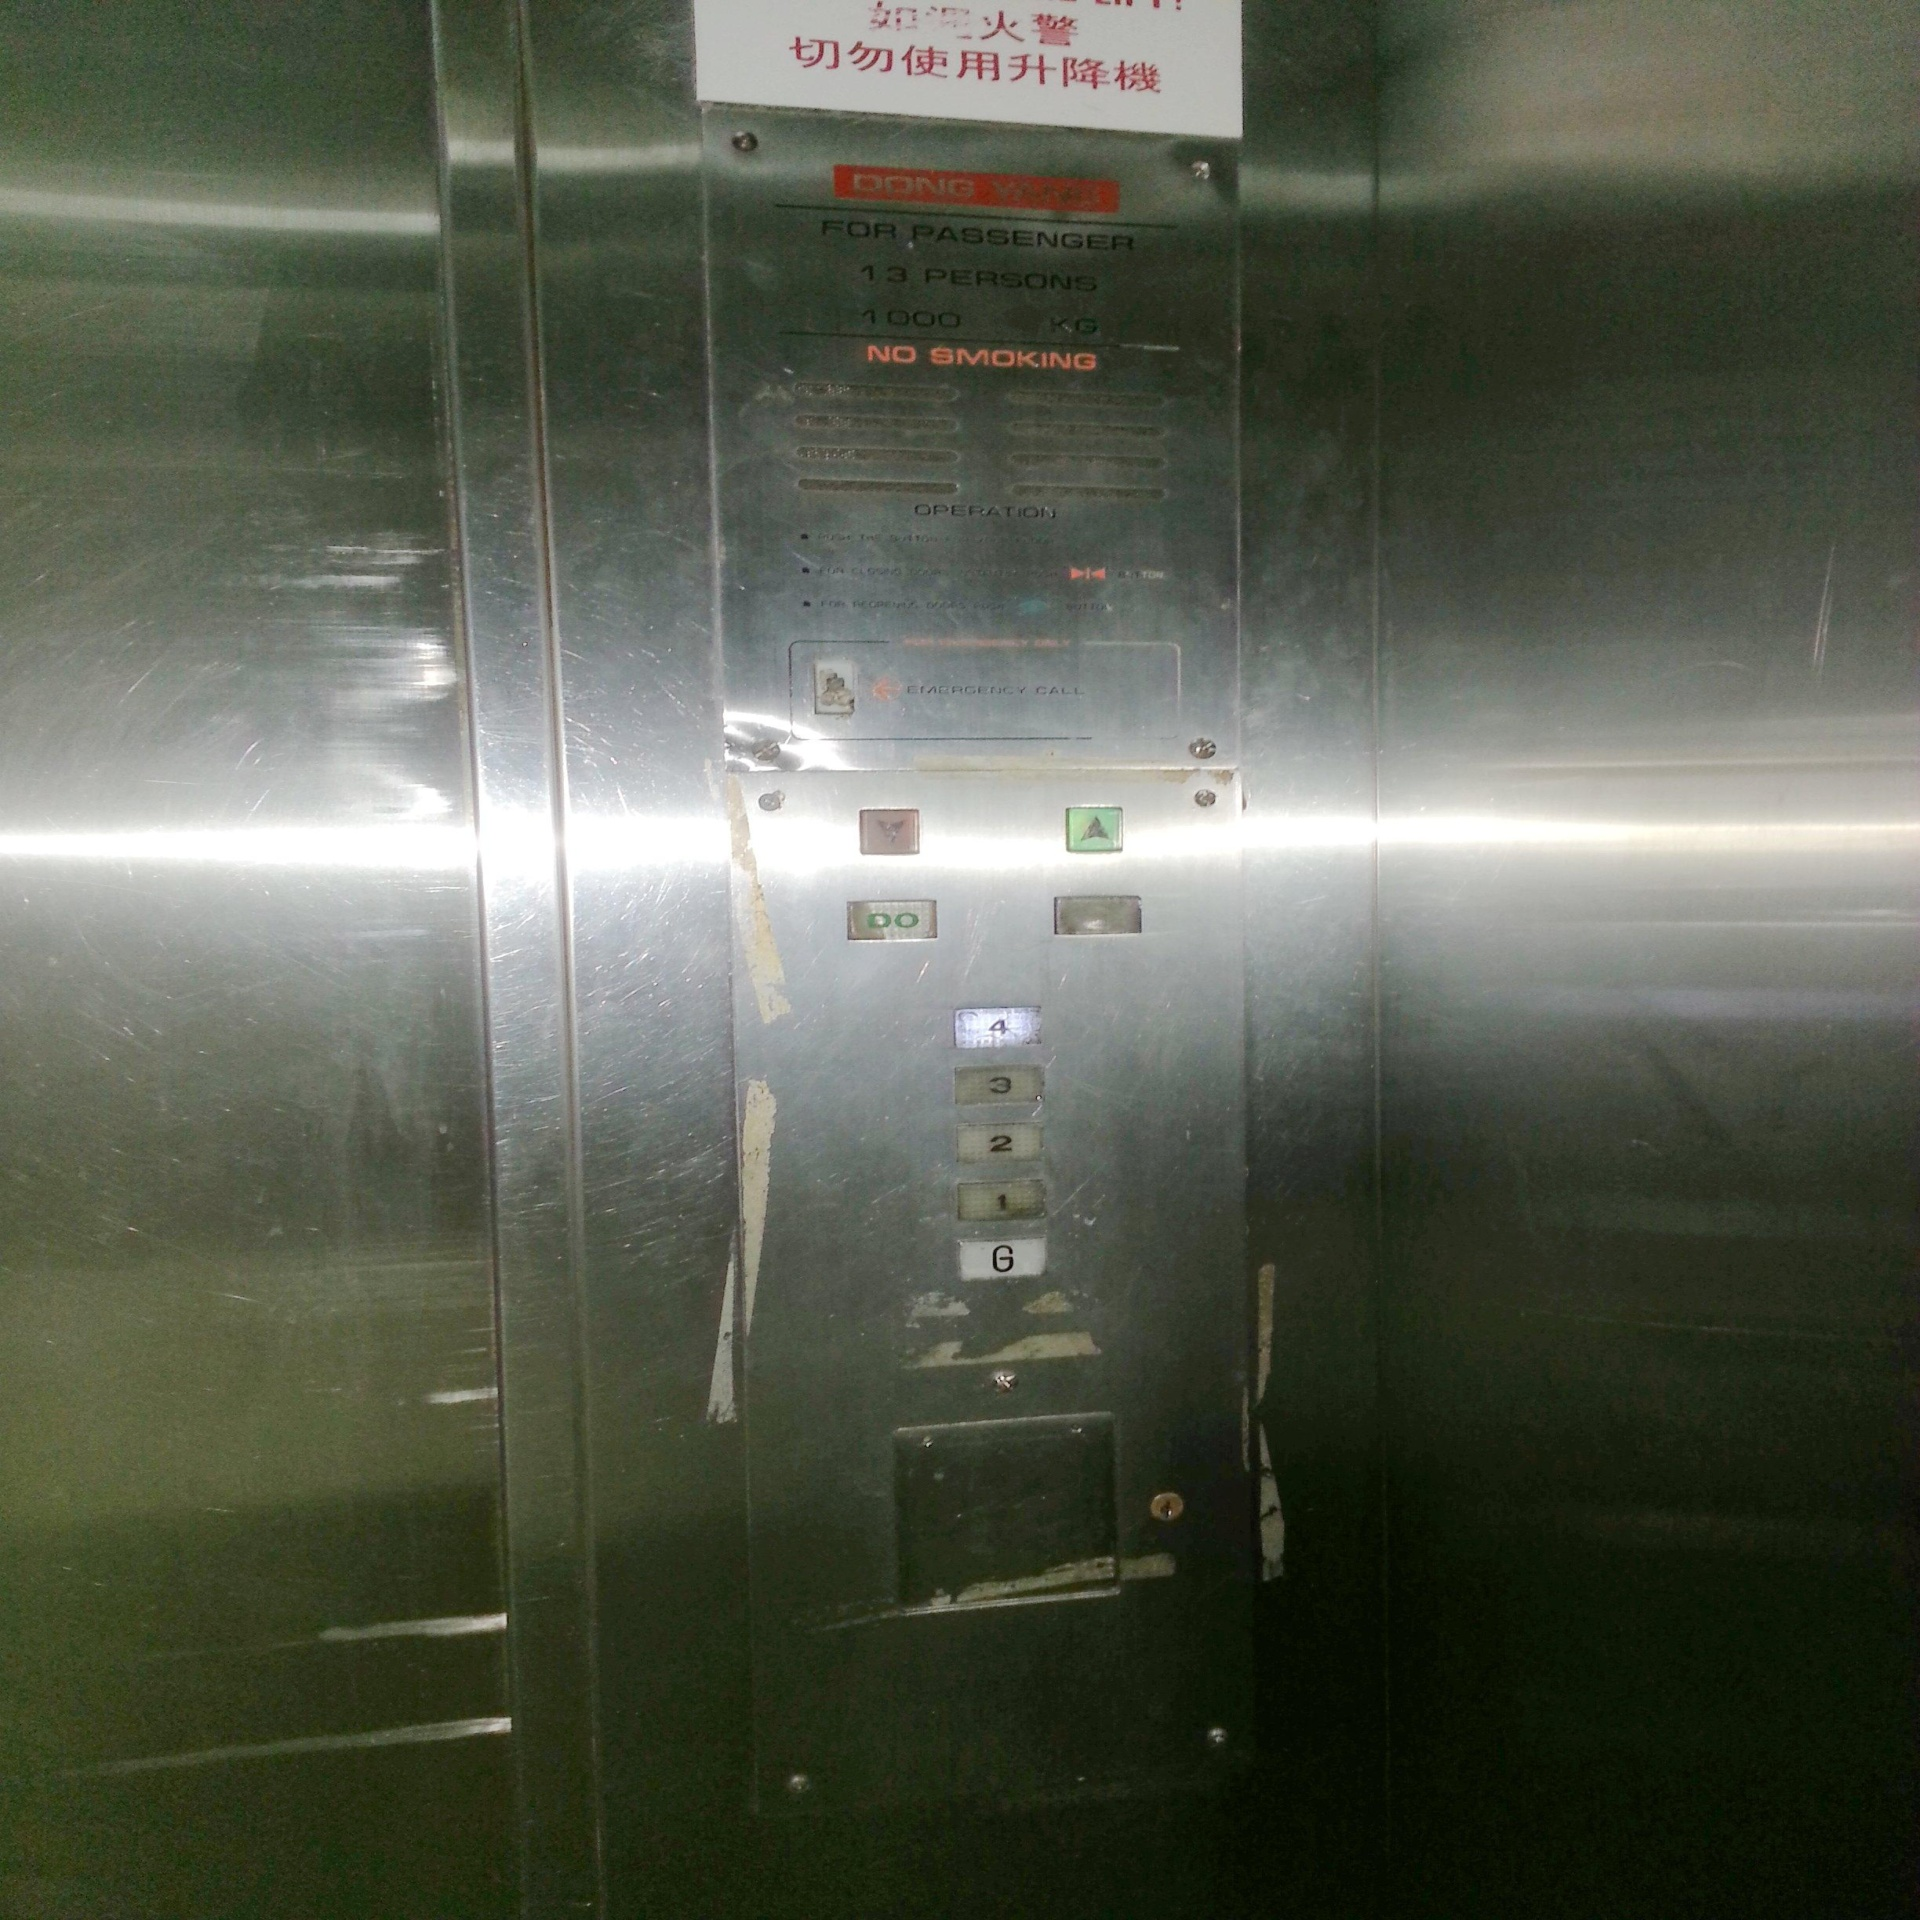1: (955, 1176, 1051, 1220)
2: (951, 1122, 1050, 1162)
3: (951, 1064, 1051, 1108)
4: (951, 1004, 1046, 1051)
DO: (844, 898, 939, 941)
G: (951, 1233, 1051, 1284)
alarm: (812, 654, 860, 721)
down: (856, 805, 921, 856)
empty: (1051, 893, 1152, 941)
keyhole: (1146, 1482, 1189, 1530)
up: (1064, 802, 1124, 855)
